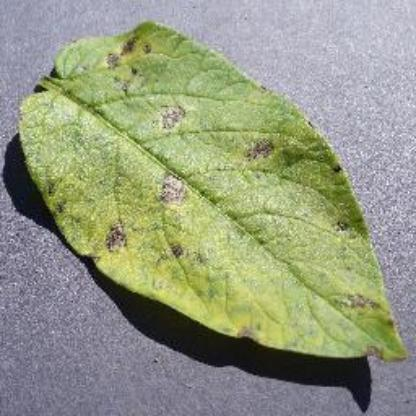Early-Blight: (13, 22, 409, 364)
